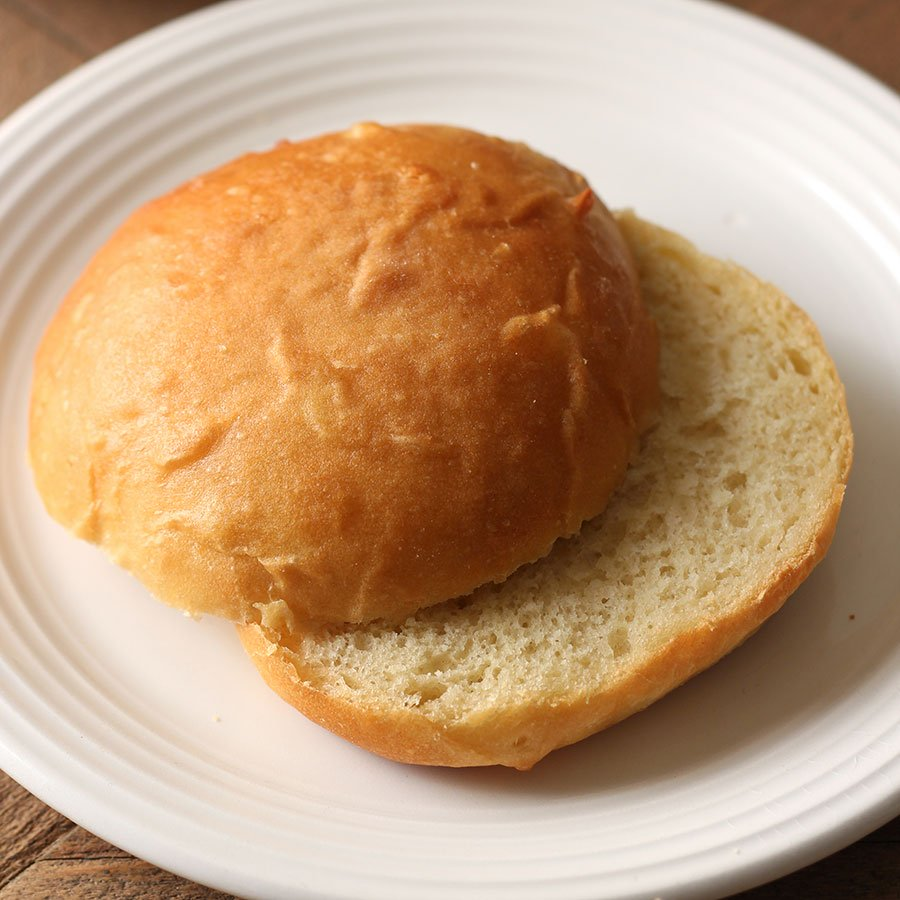hamburger_buns: (20, 102, 851, 784)
